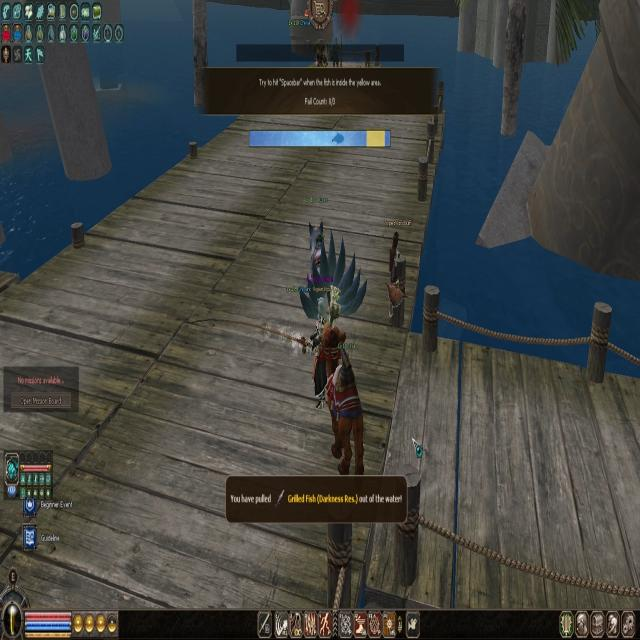fishes: (332, 132, 344, 144)
